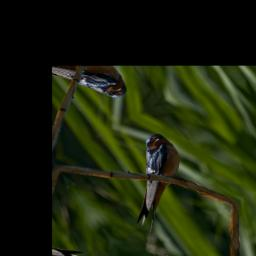Swallow: (92, 129, 218, 241)
